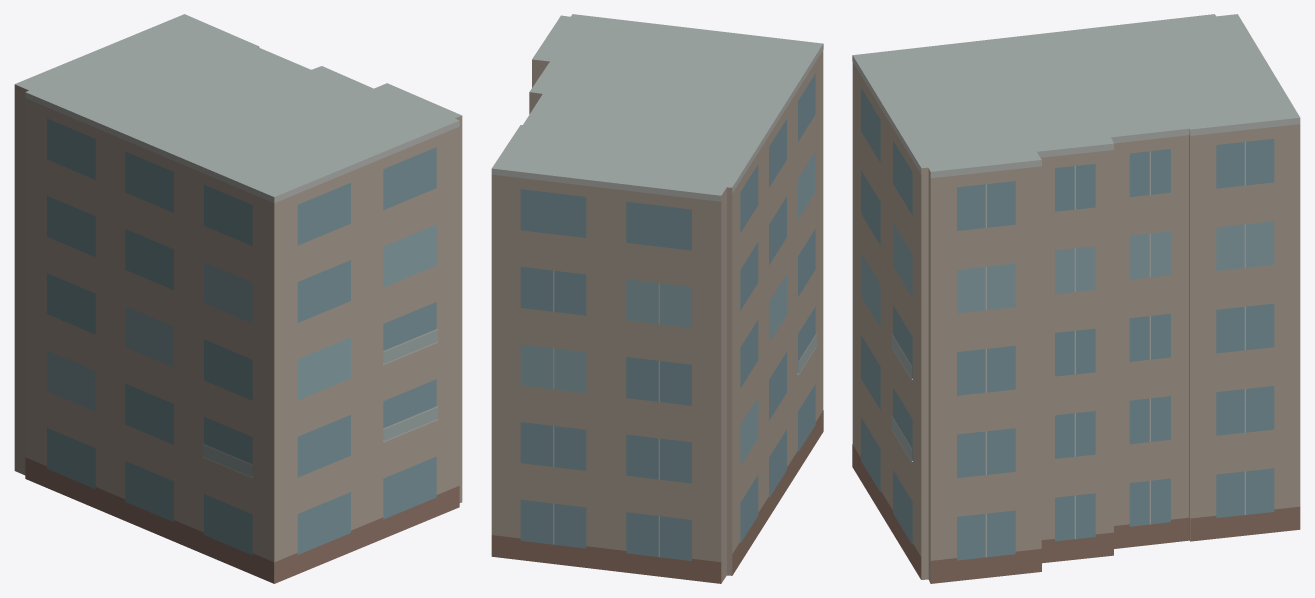
File: survey-upis-33022432.glb
3 renders of one model, left to right at view 1: azimuth 30°, elevation 25°; view 2: azimuth 150°, elevation 25°; view 3: azimuth 270°, elevation 25°, orthographic. The views are drawn at different scales.
Parts seen in each view (by area): view 1: survey-upis-33022432.tmp; view 2: survey-upis-33022432.tmp; view 3: survey-upis-33022432.tmp.
Boxes of the visible parts, x1,y1,x2,y2 form: survey-upis-33022432.tmp: (14,14,462,583); survey-upis-33022432.tmp: (491,14,823,583); survey-upis-33022432.tmp: (852,14,1300,583).
Size of the model in its own units: 12.92 by 15.7 by 15.48.
